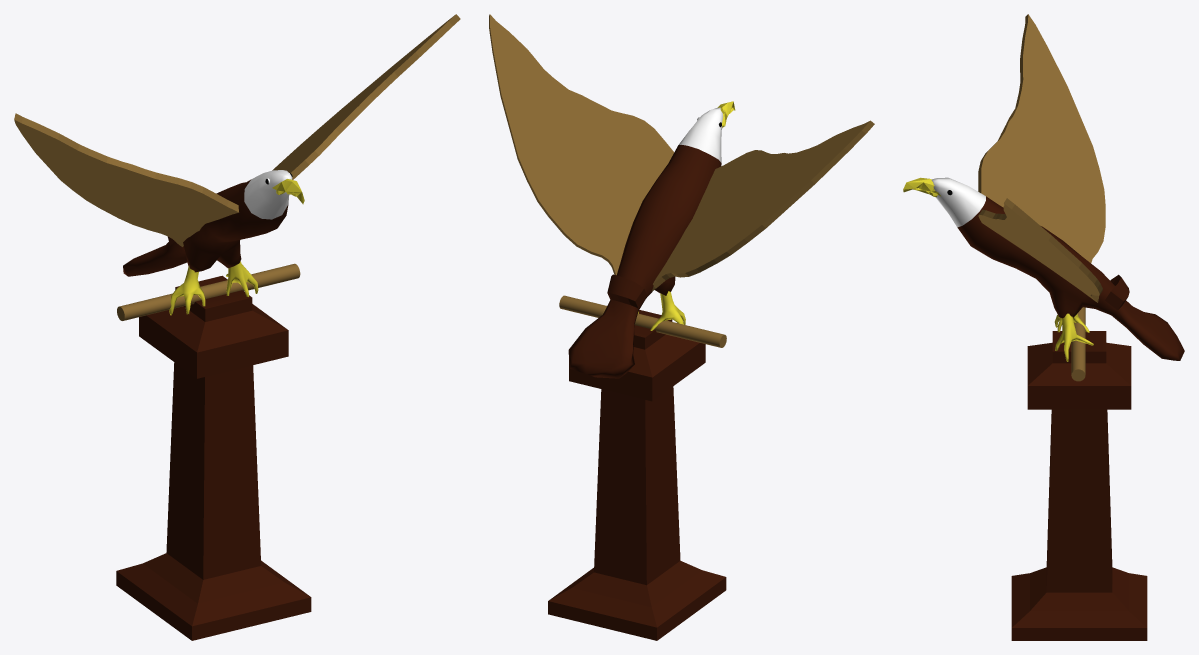
File: eagle Stand final.fbx
3 views of the same model, side by side, from view 1: azimuth 30°, elevation 25°; view 2: azimuth 150°, elevation 25°; view 3: azimuth 270°, elevation 25° (orthographic). The views are drawn at different scales.
Parts seen in each view (by area): view 1: Stand, left_wing, eagle_body, right_wing, eaglecylinder, left_leg; view 2: Stand, right_wing, eagle_body, left_wing, eaglecylinder, left_leg; view 3: Stand, left_wing, eagle_body, right_wing, eaglecylinder, right_leg.
Boxes of the visible parts, x1,y1,x2,y2 form: Stand: (116, 275, 311, 640); left_wing: (14, 113, 238, 246); eagle_body: (123, 170, 292, 276); right_wing: (272, 14, 460, 179); eaglecylinder: (117, 263, 300, 320); left_leg: (169, 265, 205, 315); Stand: (548, 310, 726, 640); right_wing: (489, 14, 673, 275); eagle_body: (568, 107, 723, 378); left_wing: (651, 120, 874, 291); eaglecylinder: (559, 295, 726, 347); left_leg: (650, 291, 685, 330); Stand: (1011, 331, 1147, 640); left_wing: (978, 14, 1105, 263); eagle_body: (931, 177, 1184, 360); right_wing: (978, 198, 1102, 302); eaglecylinder: (1071, 307, 1085, 381); right_leg: (1055, 313, 1093, 361).
Size of the model in its own units: 150 by 186 by 94.01.
